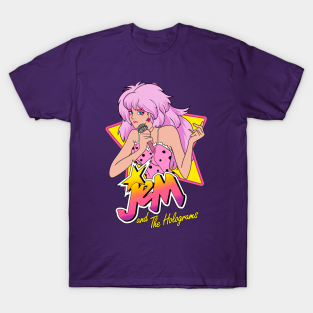design: (103, 78, 209, 231)
